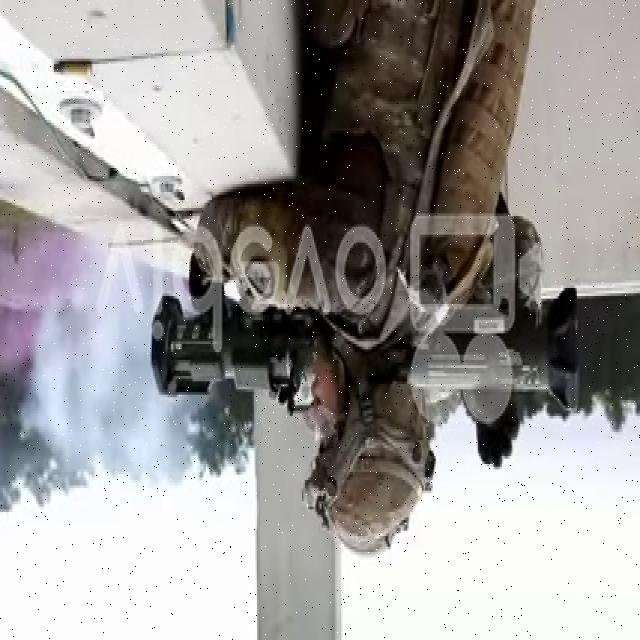bazooka: (151, 271, 585, 426)
